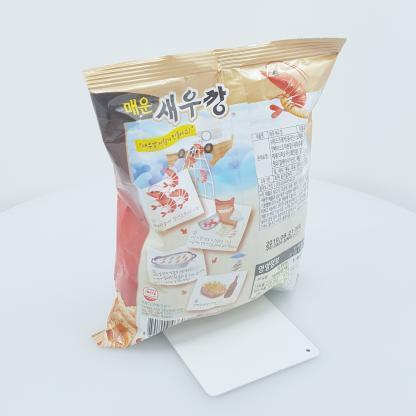Plastic Packaging: (81, 32, 351, 352)
